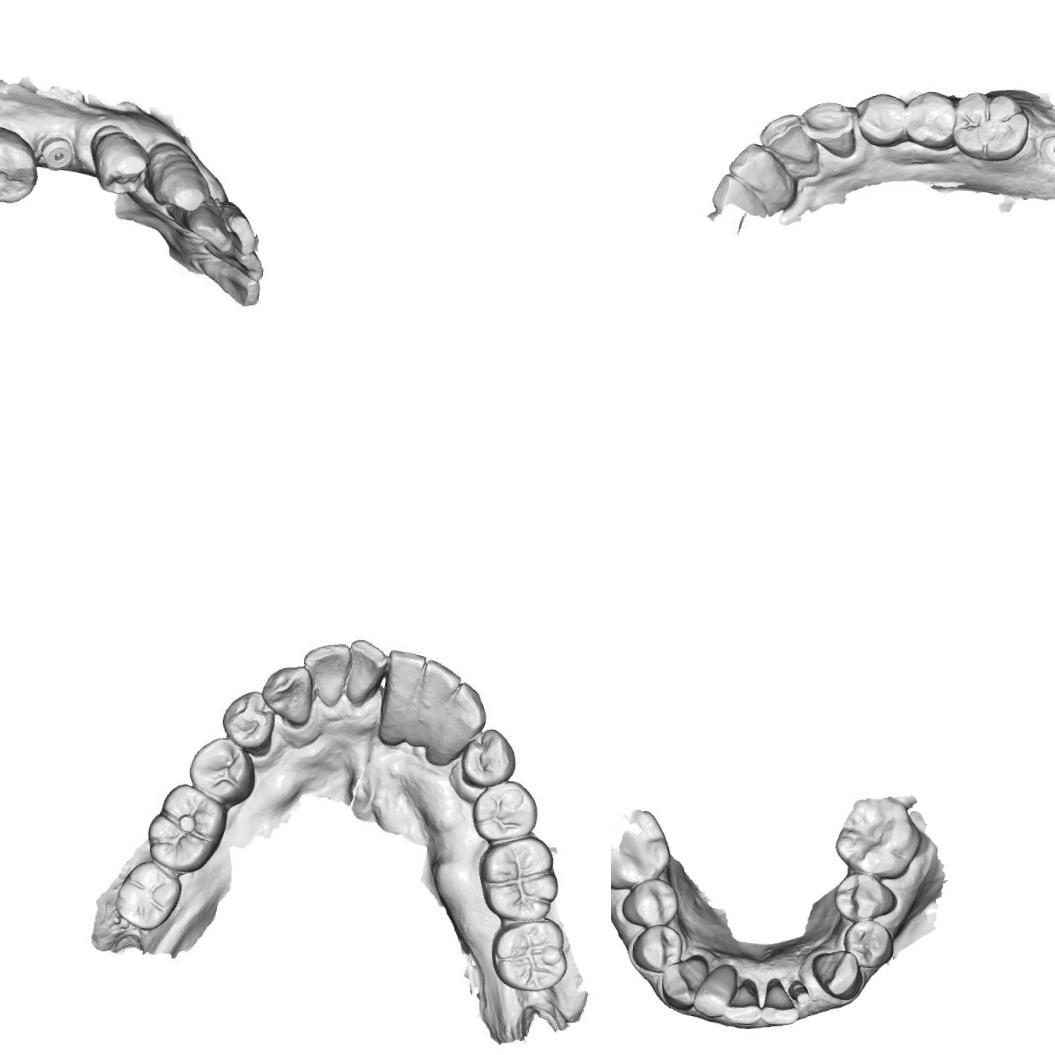abutment: (785, 978, 813, 1006)
canine: (432, 677, 490, 779), (148, 140, 208, 214), (796, 96, 862, 160), (259, 660, 318, 730), (658, 952, 708, 1012), (810, 946, 864, 1000)
implant: (34, 128, 78, 175), (1037, 123, 1055, 169)
incisor: (184, 257, 270, 311), (758, 109, 819, 174), (414, 657, 458, 741), (382, 650, 424, 735), (726, 140, 786, 194), (188, 193, 235, 256), (221, 197, 271, 256), (208, 243, 280, 282), (692, 961, 738, 1019), (306, 642, 347, 705), (346, 638, 386, 697), (724, 984, 762, 1025), (758, 994, 800, 1028)
molar: (475, 830, 562, 924), (832, 793, 924, 880), (485, 915, 570, 994), (146, 786, 222, 866), (950, 88, 1032, 162), (611, 806, 672, 893), (112, 864, 180, 932), (0, 127, 36, 208)
premolar: (186, 733, 259, 809), (471, 777, 535, 846), (89, 124, 150, 196), (221, 686, 281, 759), (832, 870, 900, 925), (853, 89, 911, 149), (902, 89, 958, 150), (460, 728, 516, 785), (620, 876, 680, 929), (839, 917, 896, 969), (632, 922, 684, 976)
